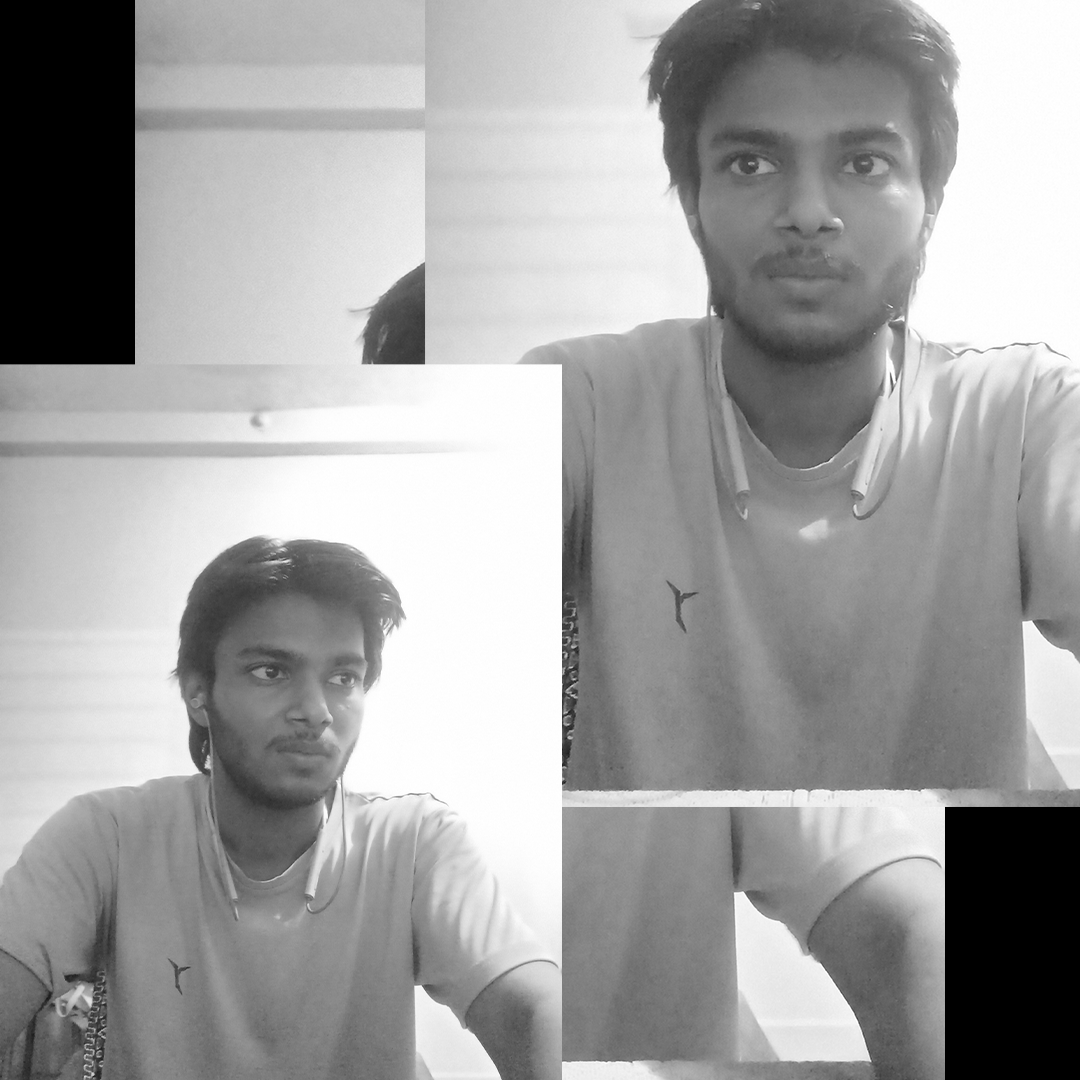Focused: (581, 31, 1000, 431), (144, 460, 463, 866)
